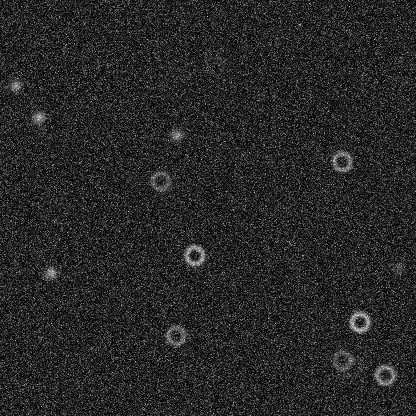Ring: (163, 323, 187, 347), (329, 149, 353, 173), (340, 356, 364, 380), (182, 243, 206, 267), (330, 348, 354, 372), (202, 53, 226, 77), (148, 169, 172, 193), (347, 309, 371, 333), (372, 363, 396, 387)
Spot: (7, 77, 23, 93), (42, 264, 58, 280), (30, 109, 46, 125), (168, 126, 184, 142), (390, 260, 406, 276)
